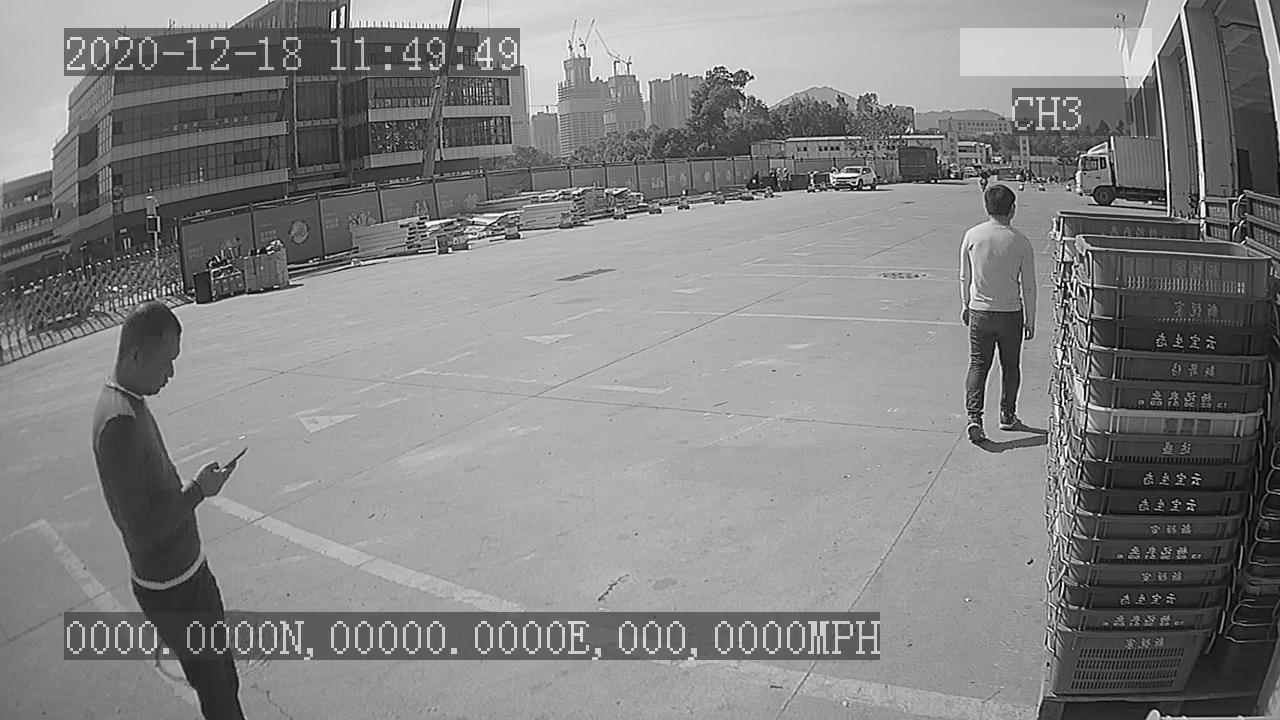person: (956, 179, 1043, 449)
